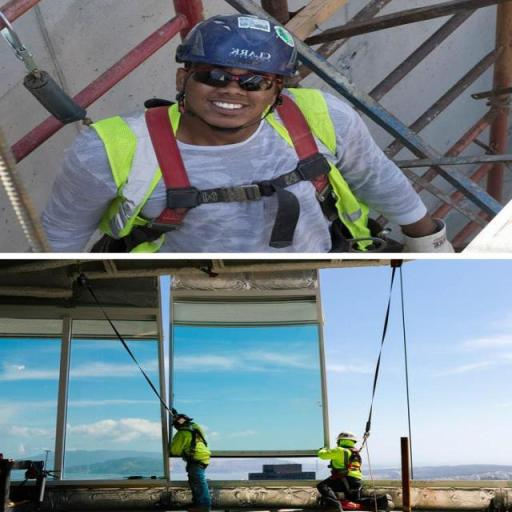helmet: (169, 10, 302, 76), (332, 426, 364, 445), (170, 410, 198, 426)
vest: (88, 94, 373, 251), (168, 424, 218, 469), (316, 445, 368, 483)
